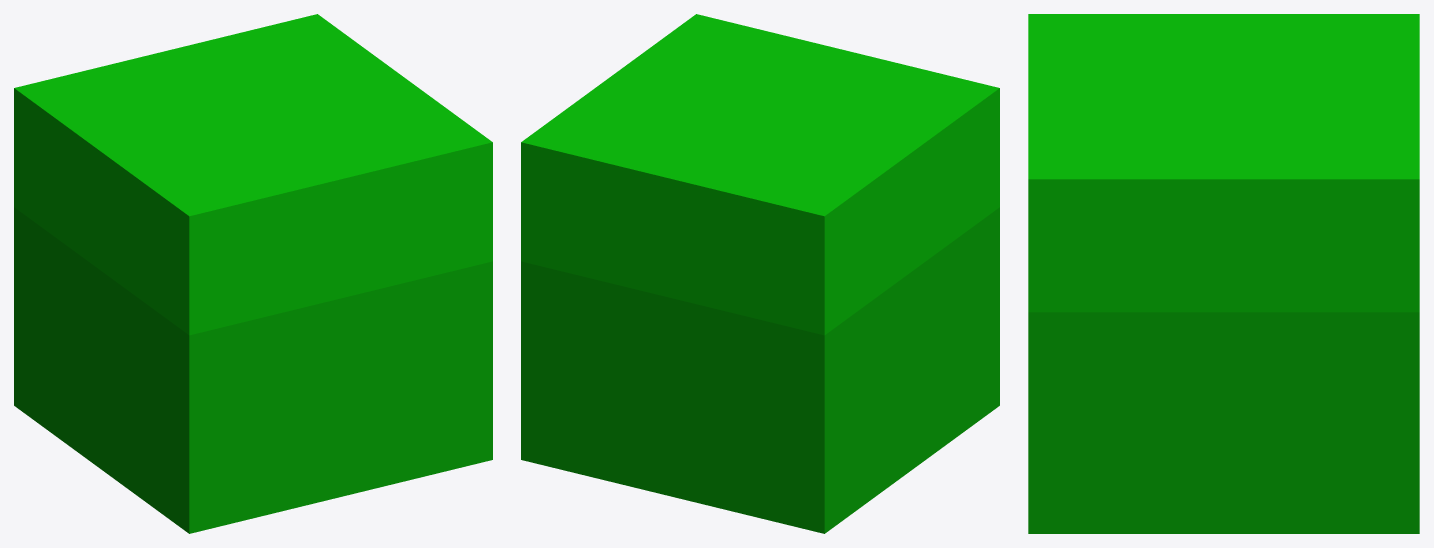
Rendered from Fabulous Migelo.glb.
The picture shows the model from 3 angles, left to right: view 1: azimuth 30°, elevation 25°; view 2: azimuth 150°, elevation 25°; view 3: azimuth 270°, elevation 25°; orthographic projection. The views are drawn at different scales.
Visible parts, largest first — view 1: Mesh_Mesh_head_geo.001_lambert2SG.001; view 2: Mesh_Mesh_head_geo.001_lambert2SG.001; view 3: Mesh_Mesh_head_geo.001_lambert2SG.001.
Part boxes in pixels (left/top/right/bottom): Mesh_Mesh_head_geo.001_lambert2SG.001: left=14, top=14, right=492, bottom=533; Mesh_Mesh_head_geo.001_lambert2SG.001: left=521, top=14, right=999, bottom=533; Mesh_Mesh_head_geo.001_lambert2SG.001: left=1028, top=14, right=1419, bottom=533.
Size of the model in its own units: 0.08 by 0.08 by 0.08.
